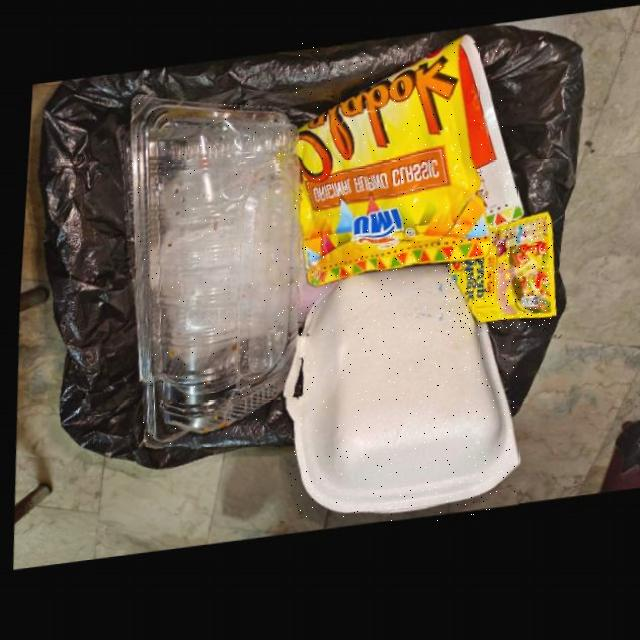plastic: (124, 96, 299, 447)
styrofoam: (279, 270, 519, 520)
wrapper: (290, 43, 518, 292), (445, 223, 552, 331)
